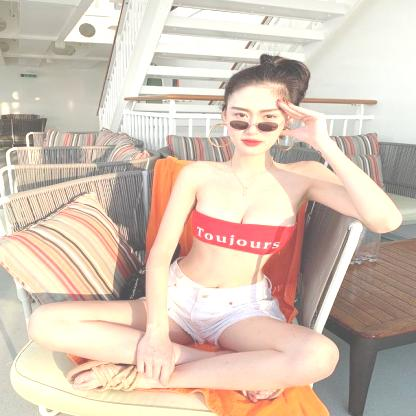jacket: (146, 264, 286, 348), (180, 207, 296, 262)
